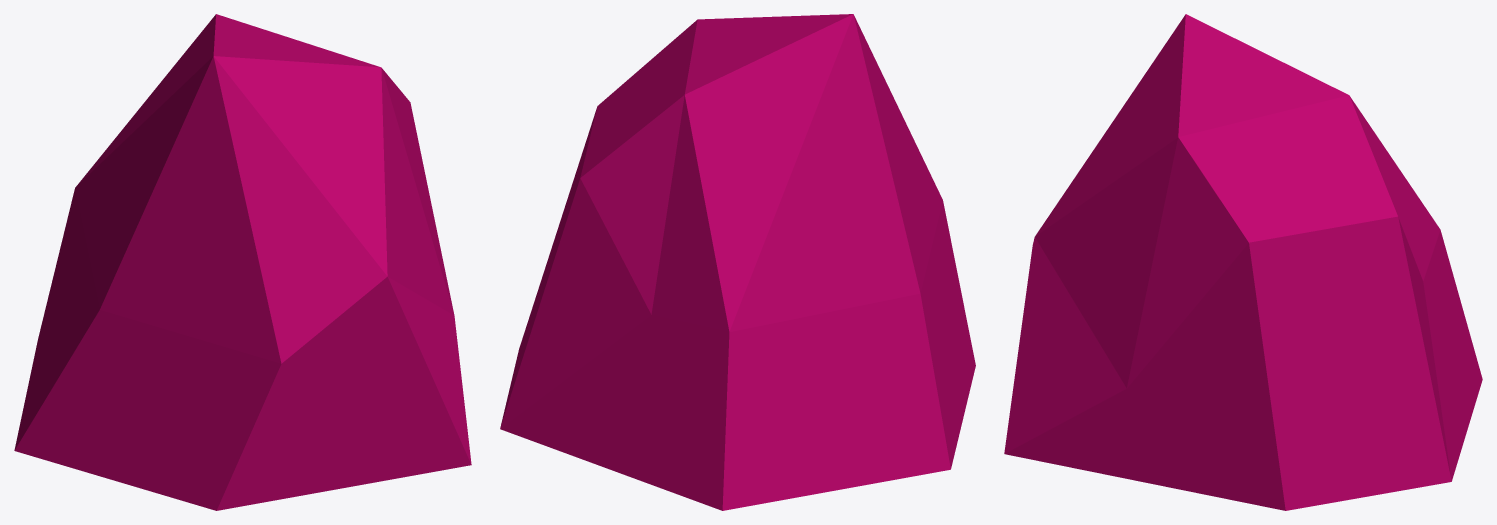
Rendered from MODEL_Scene_CrystalRock.FBX.
3 renders of one model, left to right at view 1: azimuth 30°, elevation 25°; view 2: azimuth 150°, elevation 25°; view 3: azimuth 270°, elevation 25°, orthographic. The views are drawn at different scales.
Parts seen in each view (by area): view 1: MESH_CrystalRock; view 2: MESH_CrystalRock; view 3: MESH_CrystalRock.
Part boxes in pixels (<box>): MESH_CrystalRock: <box>14,14,471,510</box>; MESH_CrystalRock: <box>500,14,975,510</box>; MESH_CrystalRock: <box>1004,14,1482,510</box>.
Size of the model in its own units: 7.82 by 6.7 by 7.68.
